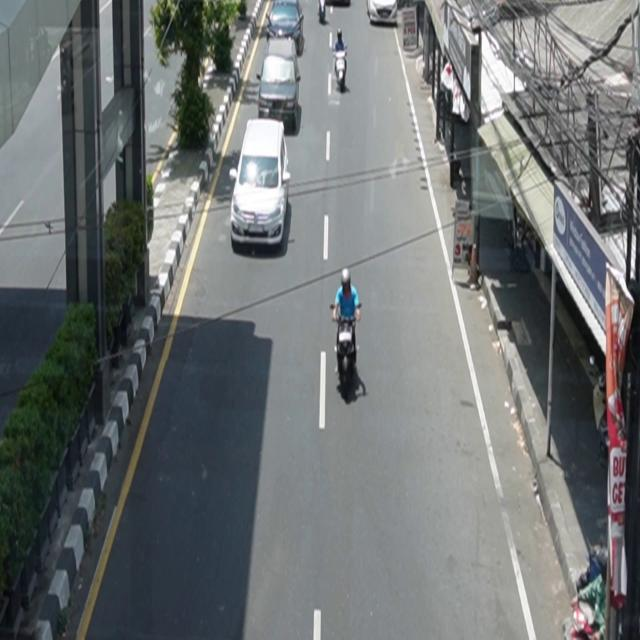car: (230, 119, 292, 250), (367, 1, 398, 26)
